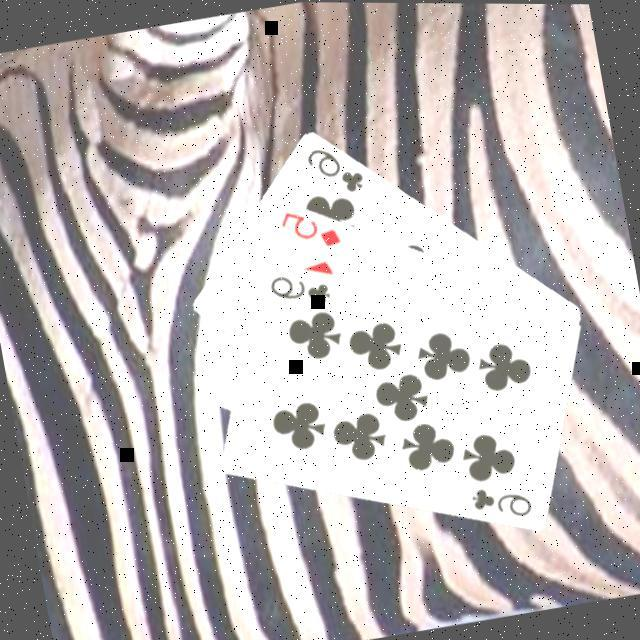5D: (272, 199, 343, 257)
6C: (299, 137, 368, 203)
9C: (262, 264, 334, 317), (463, 475, 535, 528)
